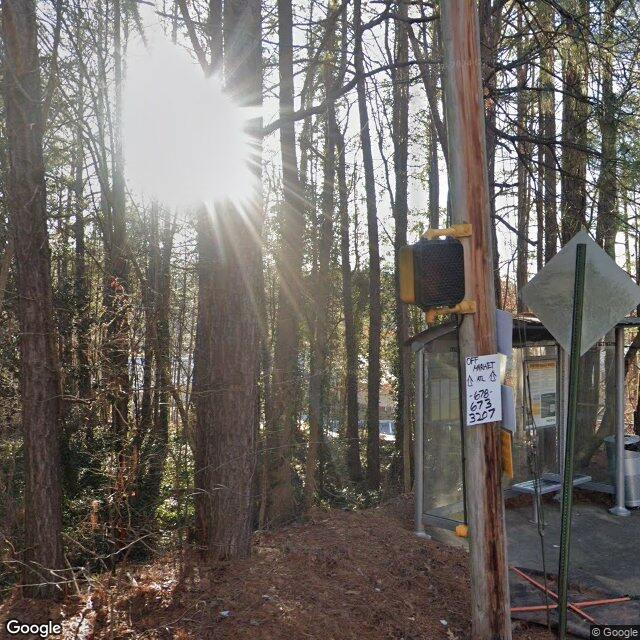seating: (510, 472, 593, 524)
shelter: (402, 312, 640, 540)
trash_can: (604, 433, 640, 510)
